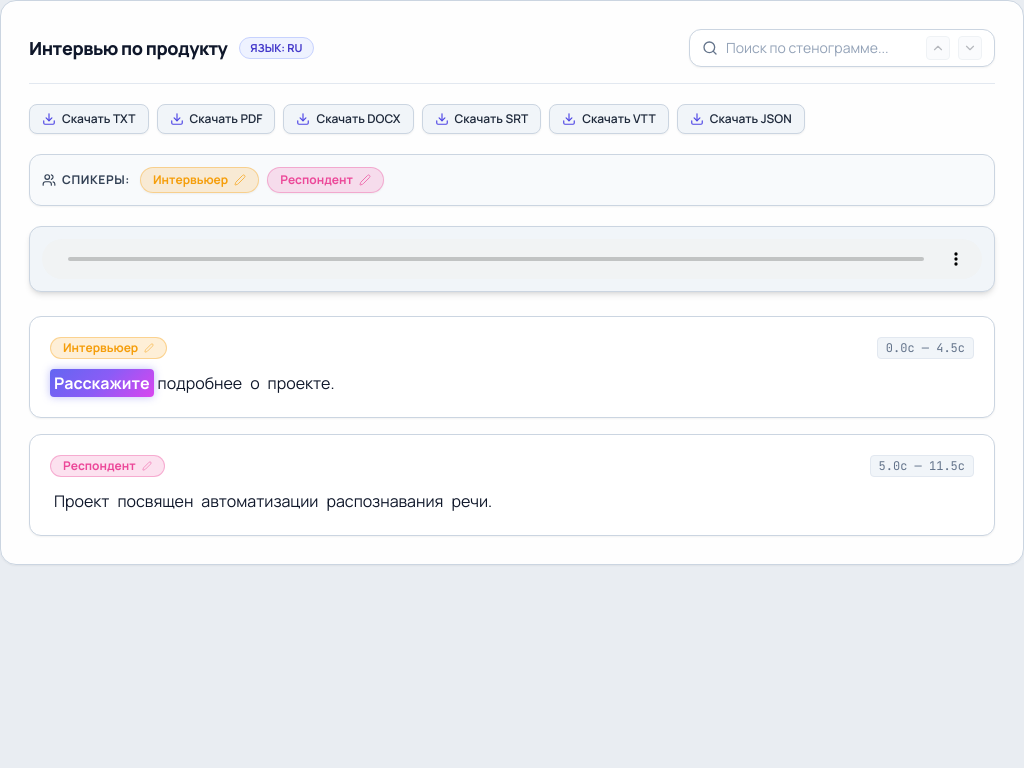
TranscriptPlayer component › should close modal when clicking cancel button or pressing Escape
Step 1. Click the button titled "Нажмите, чтобы переименовать Интервьюер" next to "Спикеры:" → x=200, y=180, box [140,167,259,193]
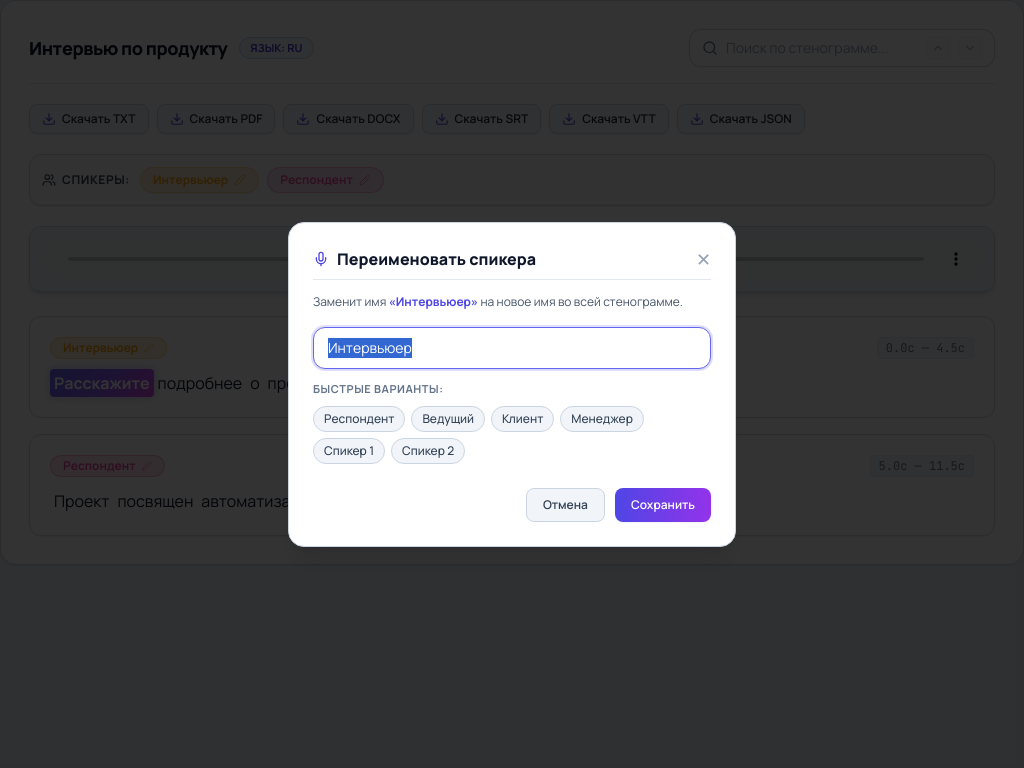
Expected: the heading "Переименовать спикера" is shown, [313,246,536,270]
Press Escape on input
Step 2. Press Escape in the field with placeholder "Введите имя (например, Иван Иванов)", box [313,327,711,369]
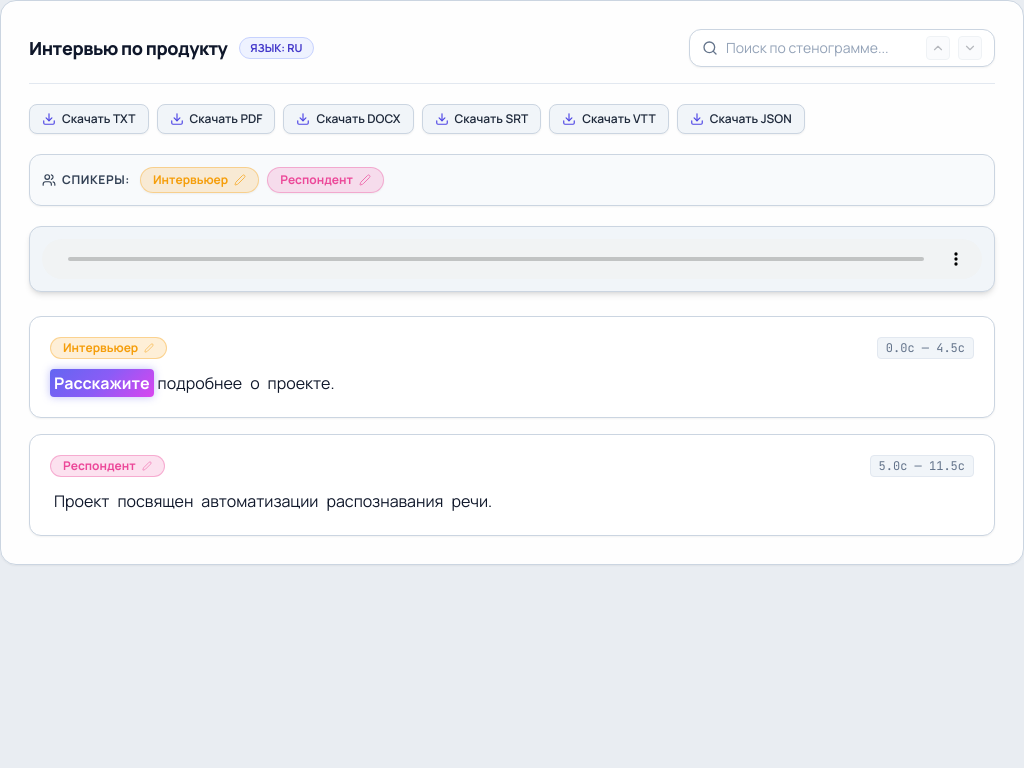
Expected: the heading "Переименовать спикера" is gone
